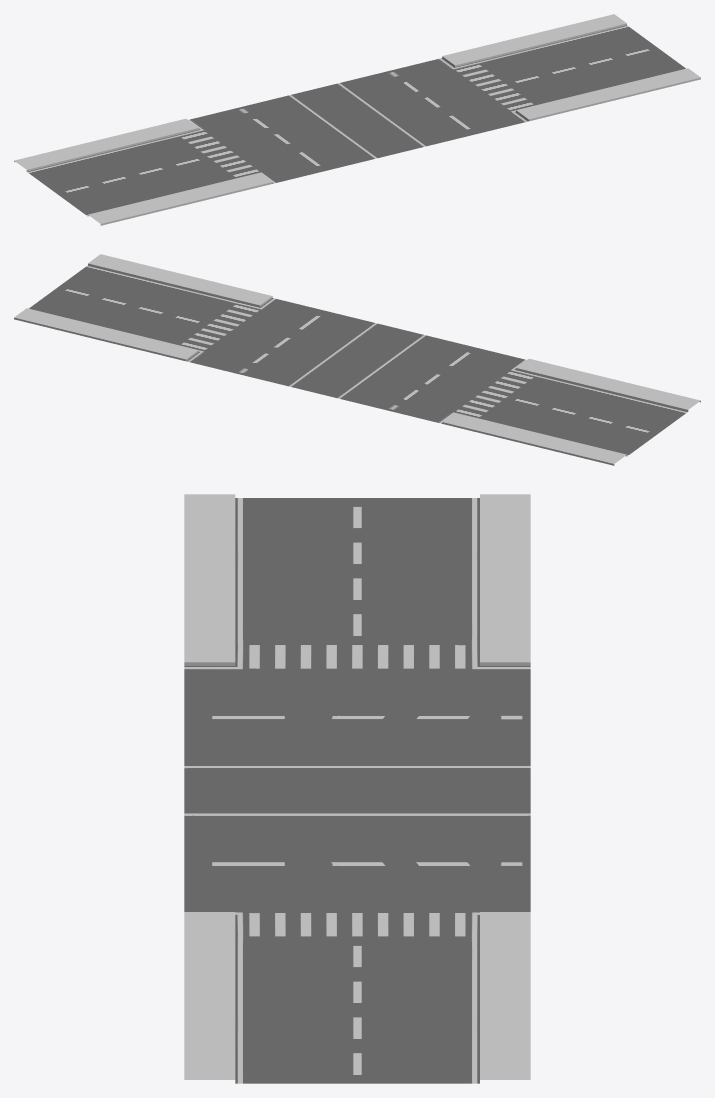
The model's file is DoubleWay Turn2.fbx.
3 renders of one model, top to bottom at view 1: azimuth 30°, elevation 25°; view 2: azimuth 150°, elevation 25°; view 3: azimuth 270°, elevation 25°, orthographic. The views are drawn at different scales.
Parts seen in each view (by area): view 1: DoubleWay Turn2; view 2: DoubleWay Turn2; view 3: DoubleWay Turn2.
Boxes of the visible parts, x1,y1,x2,y2 form: DoubleWay Turn2: (14,14,700,225); DoubleWay Turn2: (14,254,700,465); DoubleWay Turn2: (184,494,530,1083).
Size of the model in its own units: 6800 by 20 by 1700.
